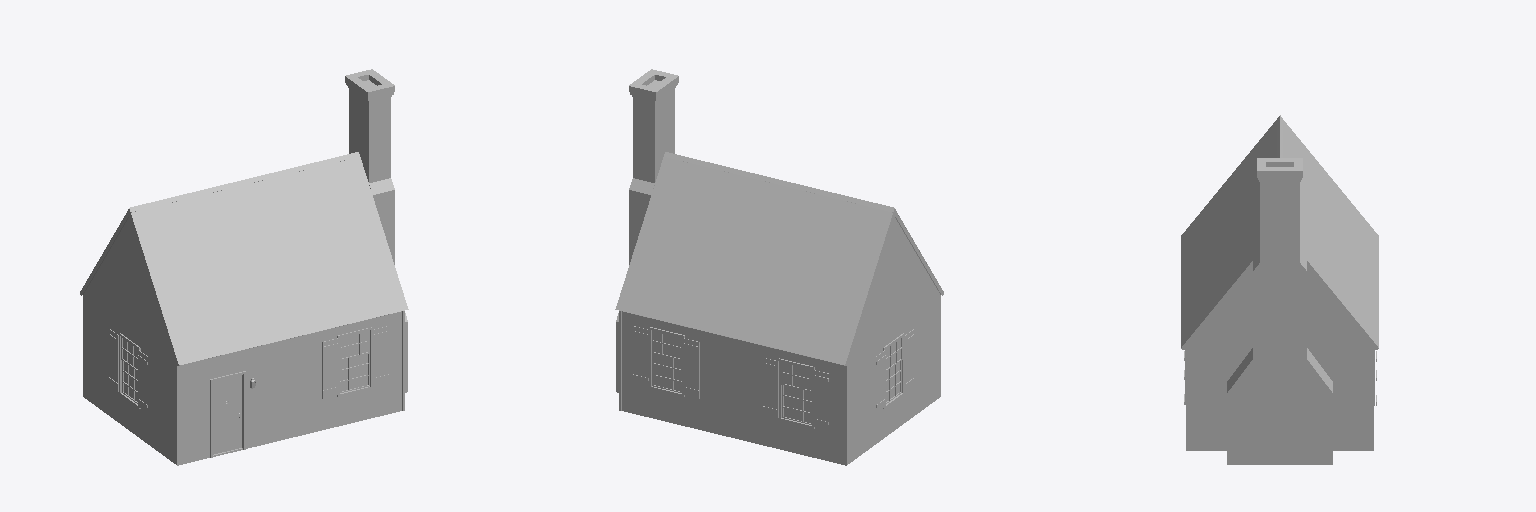
The model's file is Stone House.obj.
3 views of the same model, side by side, from view 1: azimuth 30°, elevation 25°; view 2: azimuth 150°, elevation 25°; view 3: azimuth 270°, elevation 25° (orthographic).
Visible parts, largest first — view 1: Stone_House; view 2: Stone_House; view 3: Stone_House.
Boxes of the visible parts, x1,y1,x2,y2 form: Stone_House: [80, 69, 408, 465]; Stone_House: [615, 69, 943, 465]; Stone_House: [1181, 115, 1378, 464].
Bounding box in the file's own units: 39.46 × 43.41 × 26.53.